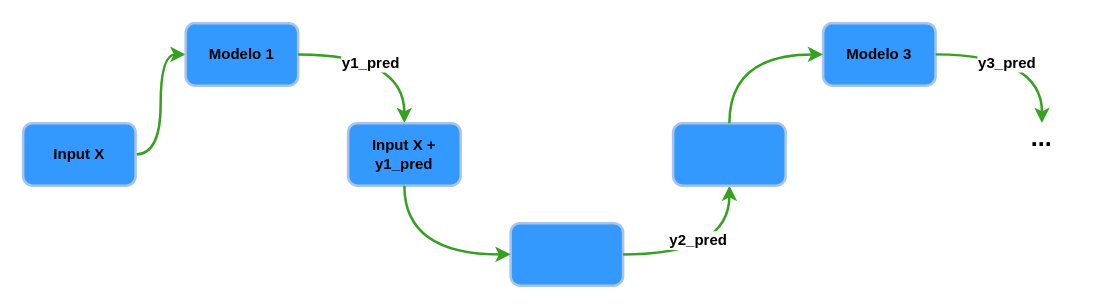
This 1106x308 diagram has some shape labels left out. Here are the shapes that lost their labels. From the top down, the box of each, then its label:
(671, 121, 786, 186): Input X + y1_pred + y2_pred
(509, 221, 624, 286): Modelo 2
